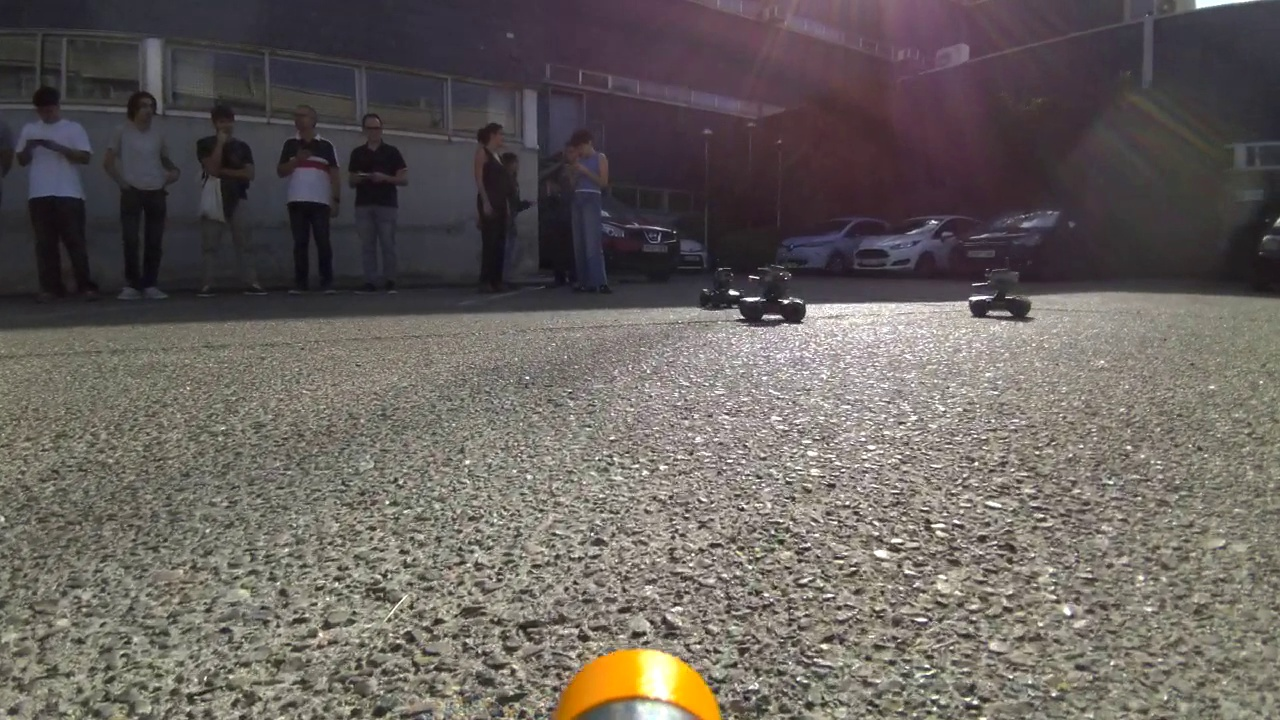robot: (957, 260, 1047, 328), (740, 266, 809, 329), (694, 261, 741, 312)
